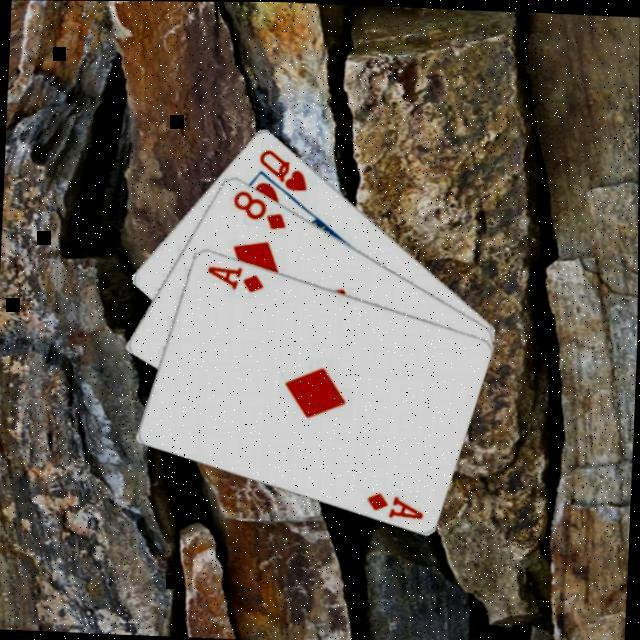8D: (228, 184, 290, 230)
AD: (202, 260, 266, 292), (363, 486, 426, 518)
QH: (253, 142, 311, 191)
